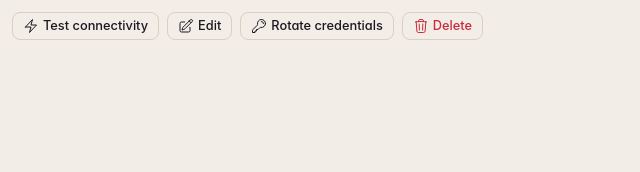
BackendActions › probes connectivity via TestBackend and renders the result badge
The width and height of the screenshot is (640, 172).
Click the button "Test connectivity" at (86, 26), box x1=12 y1=12 x2=159 y2=40
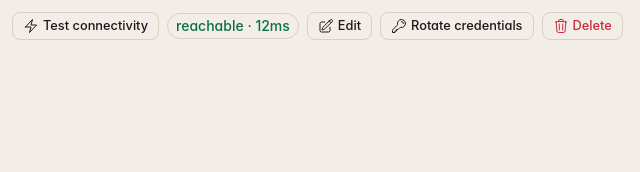
Check: the text "reachable · 12ms" is shown, box x1=167 y1=13 x2=299 y2=39
